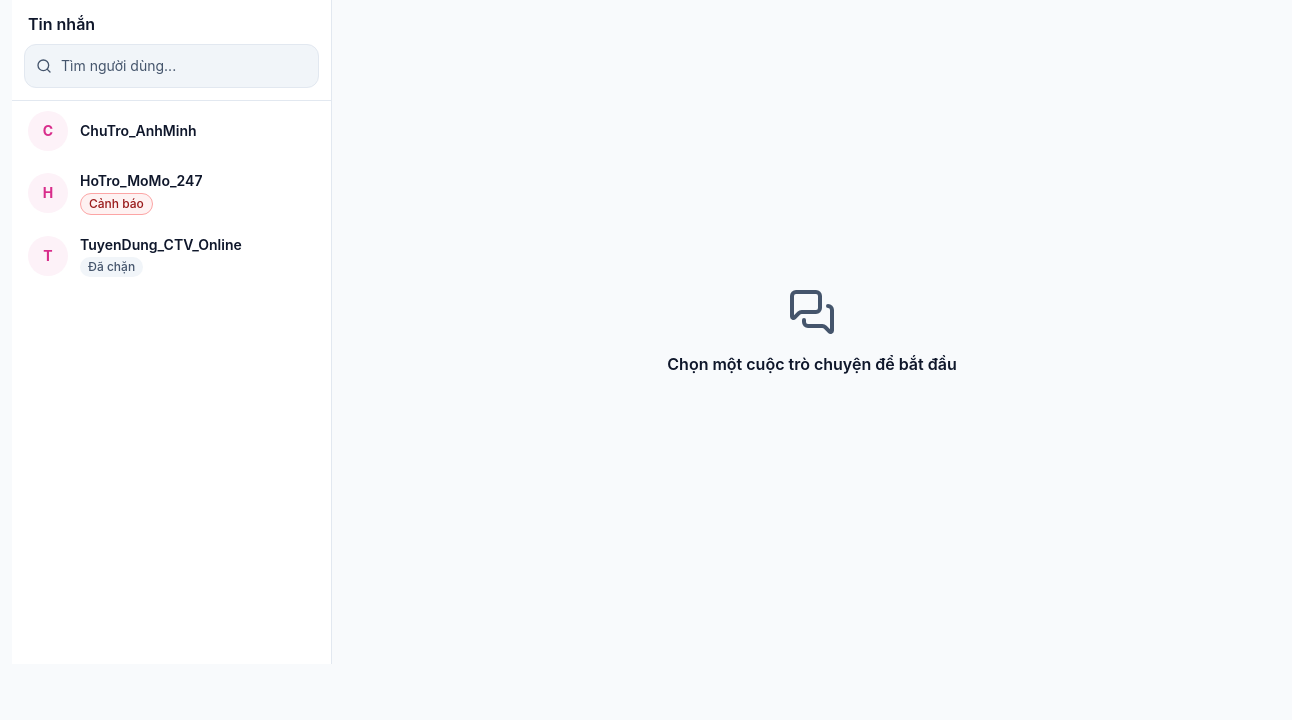
Test: ChatPage: mở cuộc trò chuyện › chọn người dùng thì tải lịch sử và hiện tin nhắn đúng bên
Click the button "C ChuTro_AnhMinh" at (172, 131), box [12,101,331,161]
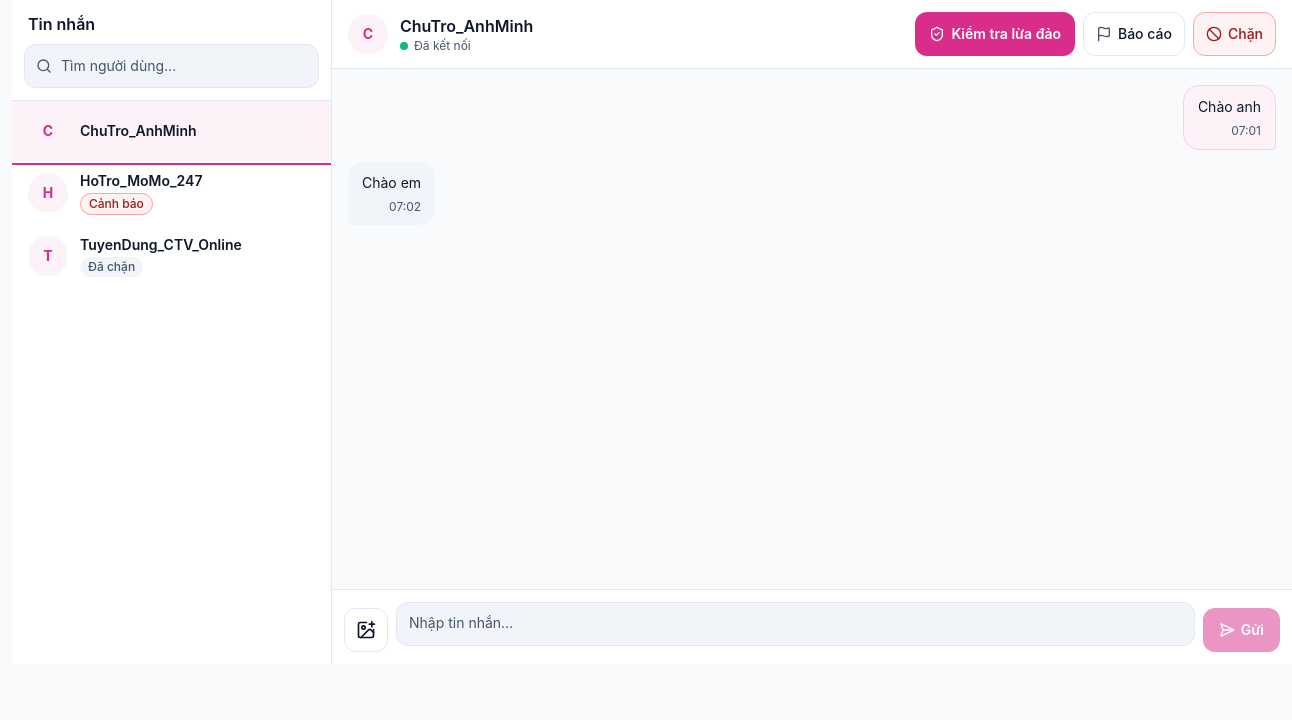
Now the text "Chào em" is shown, box [362,172,421,195]
Now the heading "ChuTro_AnhMinh" is shown, box [400,14,533,38]
Now the heading "Chọn một cuộc trò chuyện để bắt đầu" is gone
